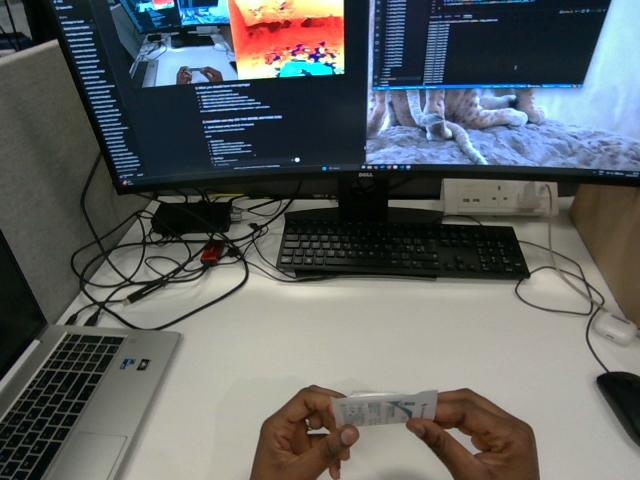gauze: (334, 392, 437, 426)
